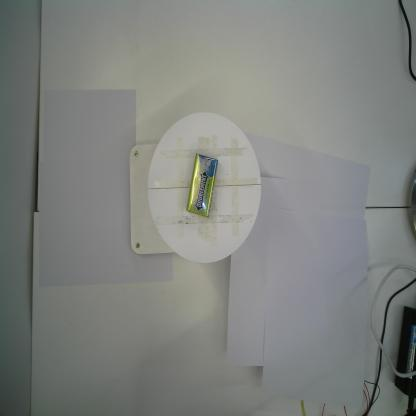Gum: (186, 153, 219, 218)
